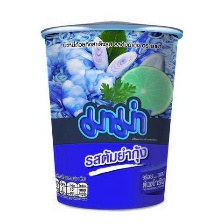paper_cup: (36, 15, 187, 214)
